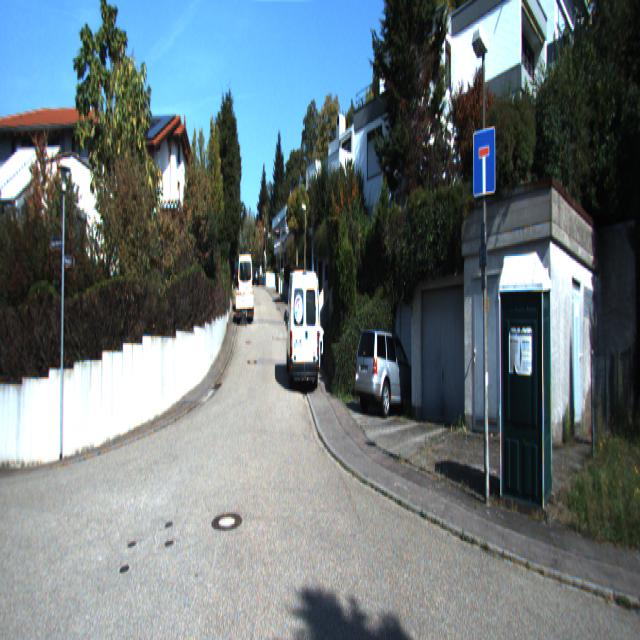Car: (352, 324, 422, 416), (285, 265, 322, 392), (238, 254, 253, 313), (235, 291, 255, 322)
